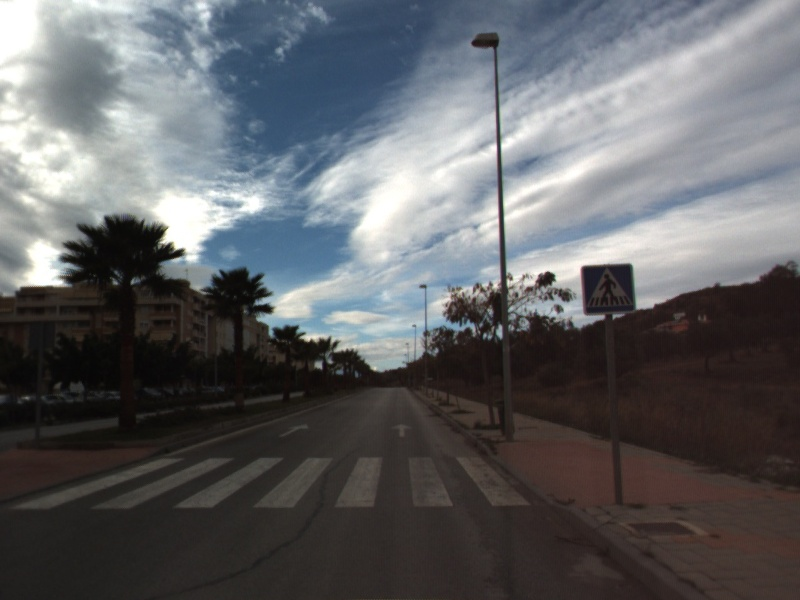STRAIGHT: (277, 421, 311, 439), (390, 421, 415, 439)
